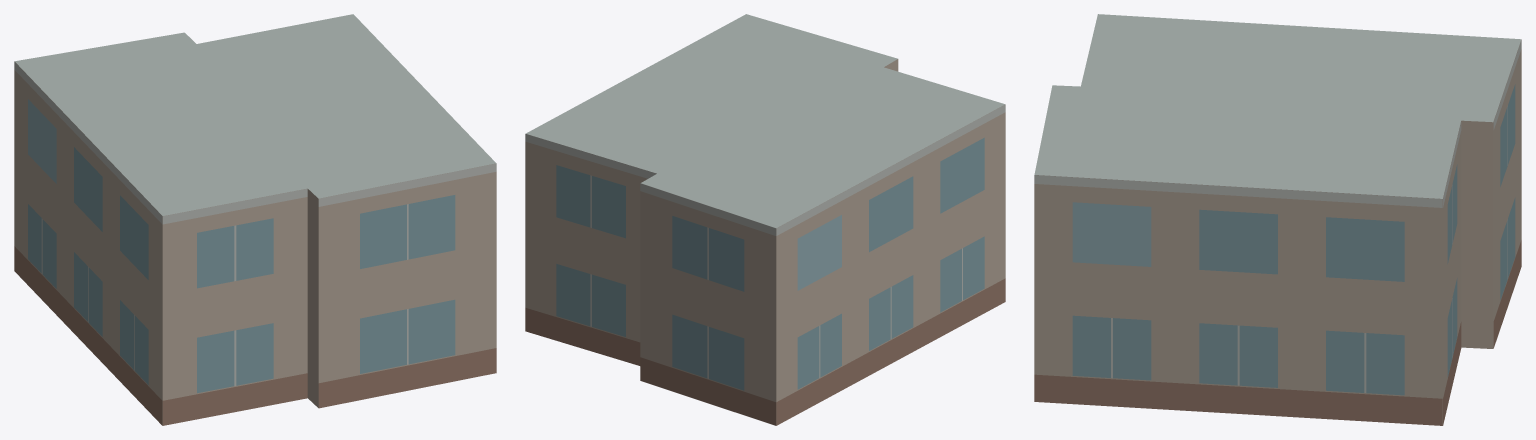
The model's file is survey-upis-32663046.glb.
3 views of the same model, side by side, from view 1: azimuth 30°, elevation 25°; view 2: azimuth 150°, elevation 25°; view 3: azimuth 270°, elevation 25° (orthographic). The views are drawn at different scales.
Parts seen in each view (by area): view 1: survey-upis-32663046.tmp; view 2: survey-upis-32663046.tmp; view 3: survey-upis-32663046.tmp.
Part boxes in pixels (bbox=[...]): survey-upis-32663046.tmp: bbox=[14, 14, 496, 425]; survey-upis-32663046.tmp: bbox=[525, 14, 1005, 425]; survey-upis-32663046.tmp: bbox=[1034, 14, 1521, 425].
Size of the model in its own units: 10.67 by 6.1 by 11.88.
